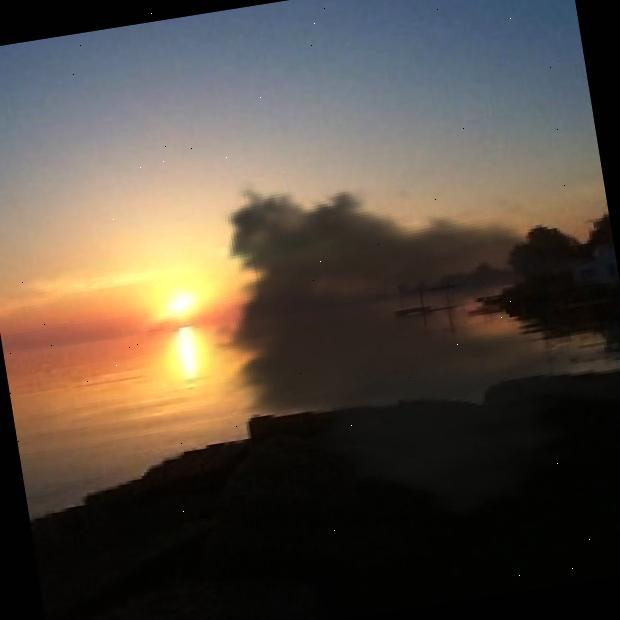smoke: (182, 125, 620, 564)
